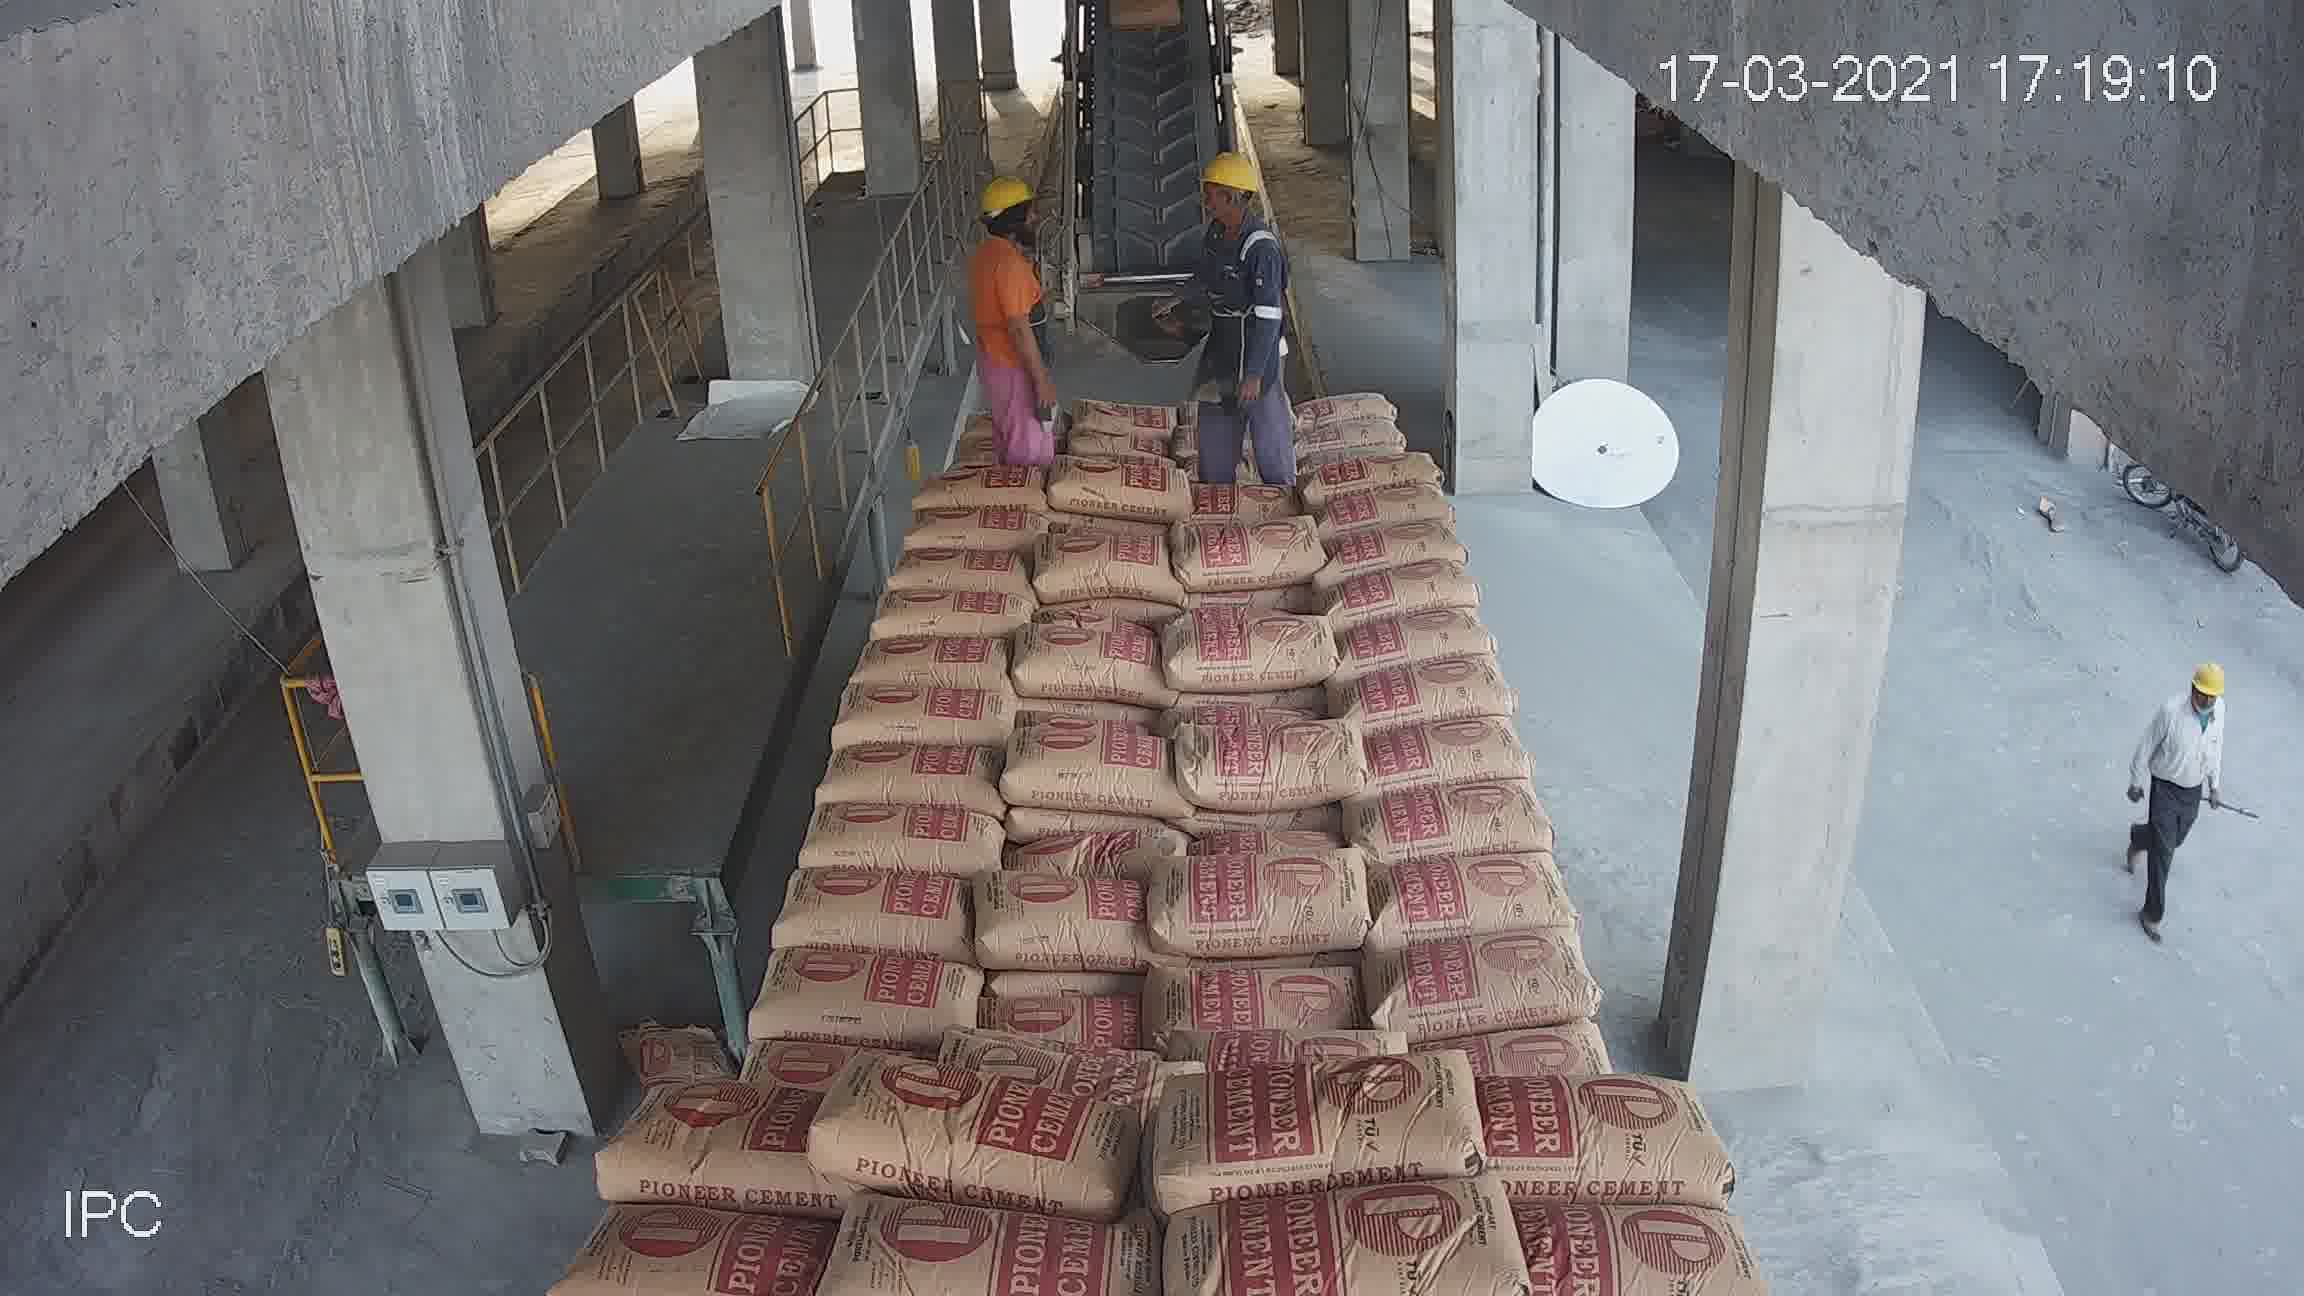bag_h: (1150, 1040, 1480, 1215), (804, 1059, 1158, 1193), (1166, 1166, 1500, 1280), (1494, 1082, 1715, 1215), (1337, 923, 1586, 1033), (737, 951, 1002, 1052), (1136, 839, 1370, 946), (824, 1214, 1161, 1287), (587, 1090, 801, 1193), (570, 1195, 813, 1280), (1538, 1207, 1772, 1296), (1358, 858, 1575, 948), (1355, 767, 1549, 867), (1179, 704, 1367, 802), (790, 791, 997, 878), (967, 875, 1147, 972), (1147, 954, 1350, 1035), (1423, 1003, 1608, 1090), (779, 859, 973, 942), (1339, 652, 1510, 745), (980, 805, 1180, 885), (794, 742, 1010, 815), (1355, 704, 1525, 790), (1008, 714, 1176, 799), (821, 680, 1006, 755), (937, 1025, 1198, 1078), (1155, 612, 1340, 684), (1029, 529, 1184, 612), (1182, 1021, 1408, 1074), (1006, 623, 1166, 699), (1161, 503, 1320, 576), (869, 578, 1046, 642), (961, 983, 1146, 1044), (1324, 559, 1480, 628), (1336, 612, 1484, 684), (1310, 475, 1449, 543), (1038, 464, 1195, 519), (905, 495, 1048, 555), (1307, 434, 1442, 495), (878, 532, 1022, 589), (1320, 521, 1464, 578), (843, 636, 1003, 684), (1192, 465, 1299, 532), (1052, 426, 1188, 468), (1290, 411, 1415, 454), (904, 467, 1040, 503), (1293, 381, 1400, 421), (1067, 399, 1195, 426)
belt: (1055, 13, 1253, 315)
